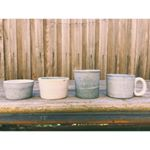cups: (104, 73, 148, 100)
other: (71, 67, 102, 101), (37, 73, 70, 104), (1, 76, 35, 105)
